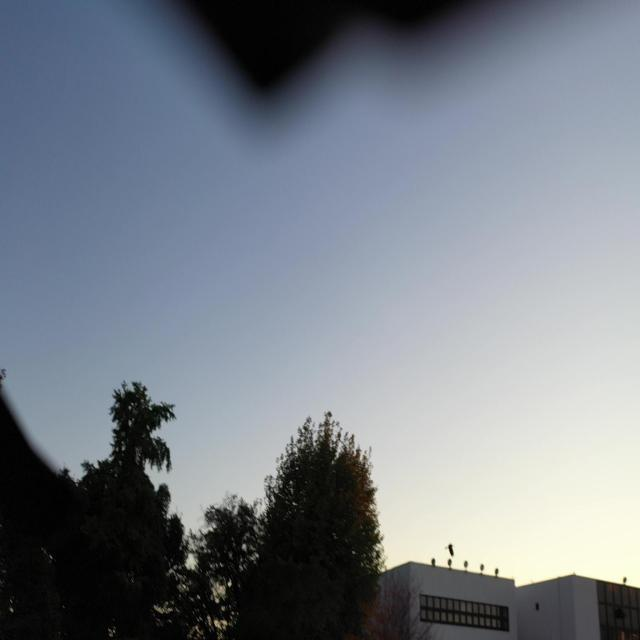Birds: (443, 540, 455, 560)
